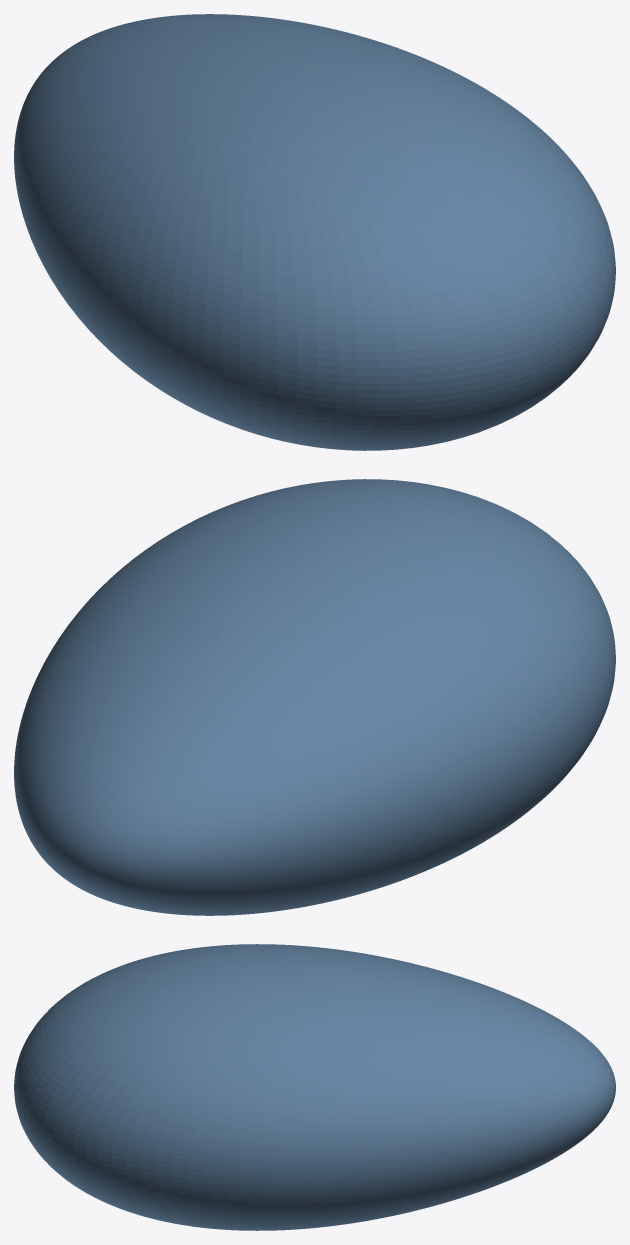
File: assembly_05_Canopy.glb
3 renders of one model, top to bottom at view 1: azimuth 30°, elevation 25°; view 2: azimuth 150°, elevation 25°; view 3: azimuth 270°, elevation 25°, orthographic. The views are drawn at different scales.
Visible parts, largest first — view 1: assembly_05_Canopy_gltf_export_temp; view 2: assembly_05_Canopy_gltf_export_temp; view 3: assembly_05_Canopy_gltf_export_temp.
Part boxes in pixels (x1=…): assembly_05_Canopy_gltf_export_temp: x1=14, y1=14, x2=615, y2=450; assembly_05_Canopy_gltf_export_temp: x1=14, y1=479, x2=615, y2=915; assembly_05_Canopy_gltf_export_temp: x1=14, y1=944, x2=615, y2=1230.
Size of the model in its own units: 0.4246 by 0.2751 by 0.6466.
